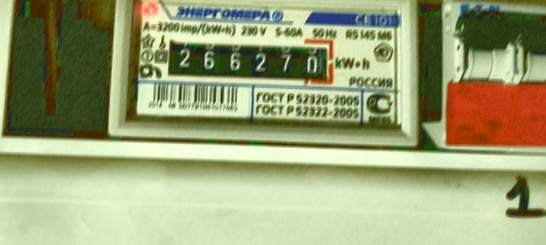0: (304, 53, 318, 73)
2: (177, 46, 190, 68), (254, 51, 267, 72)
6: (202, 48, 214, 70), (228, 50, 241, 70)
7: (280, 52, 290, 71)
screen: (155, 29, 340, 90)
